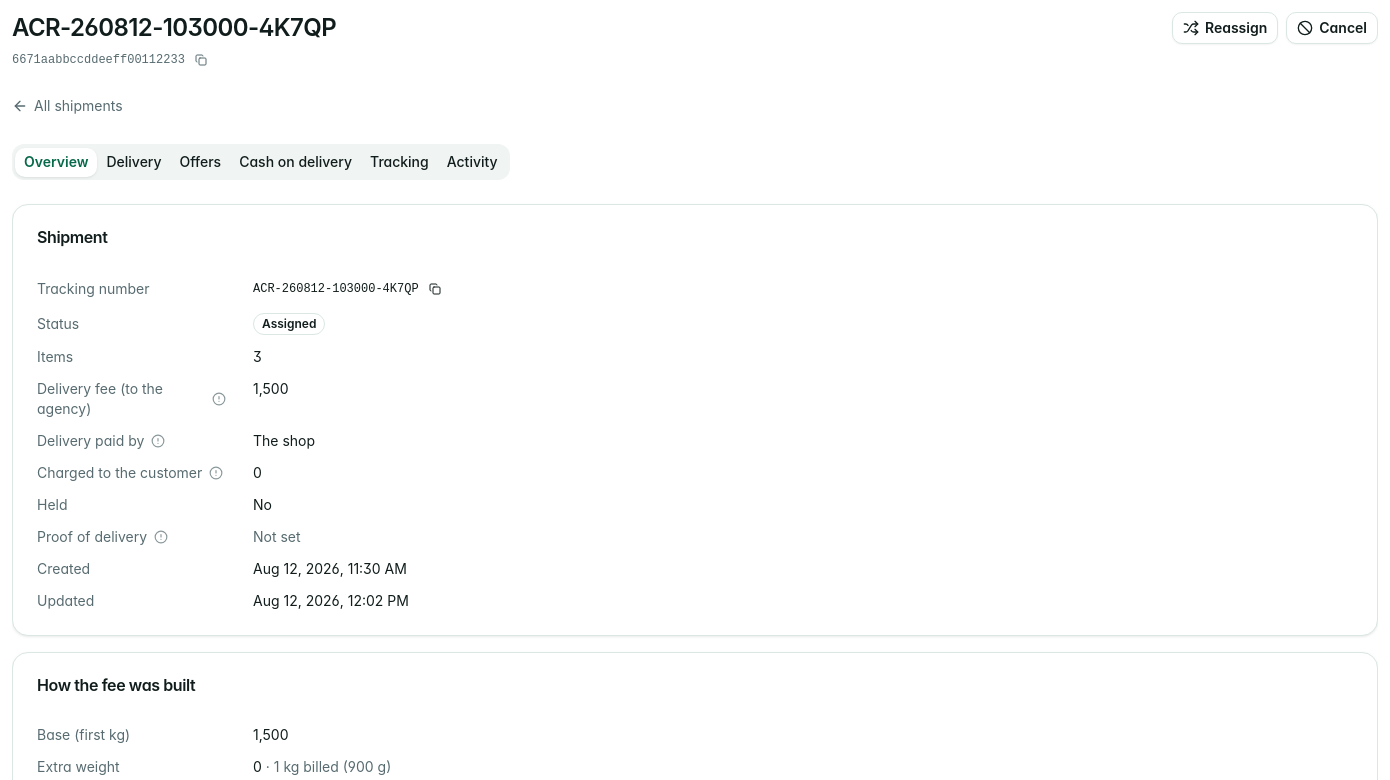
Scenario: the record › says nothing has gone wrong on an ordinary delivery
Step 1. Click the tab "Delivery" → (134, 162), box [98, 148, 171, 176]
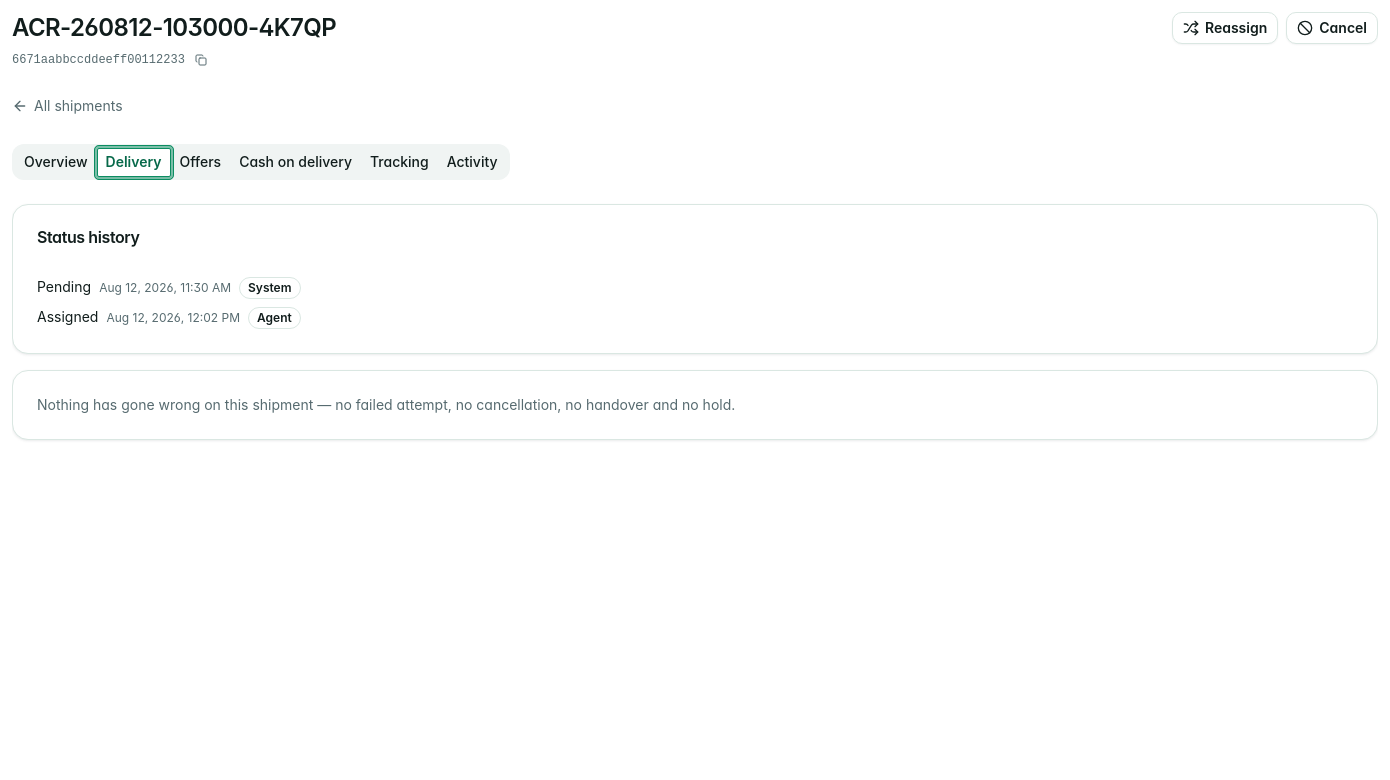
Now the text "Nothing has gone wrong" is shown, box [37, 396, 735, 413]
